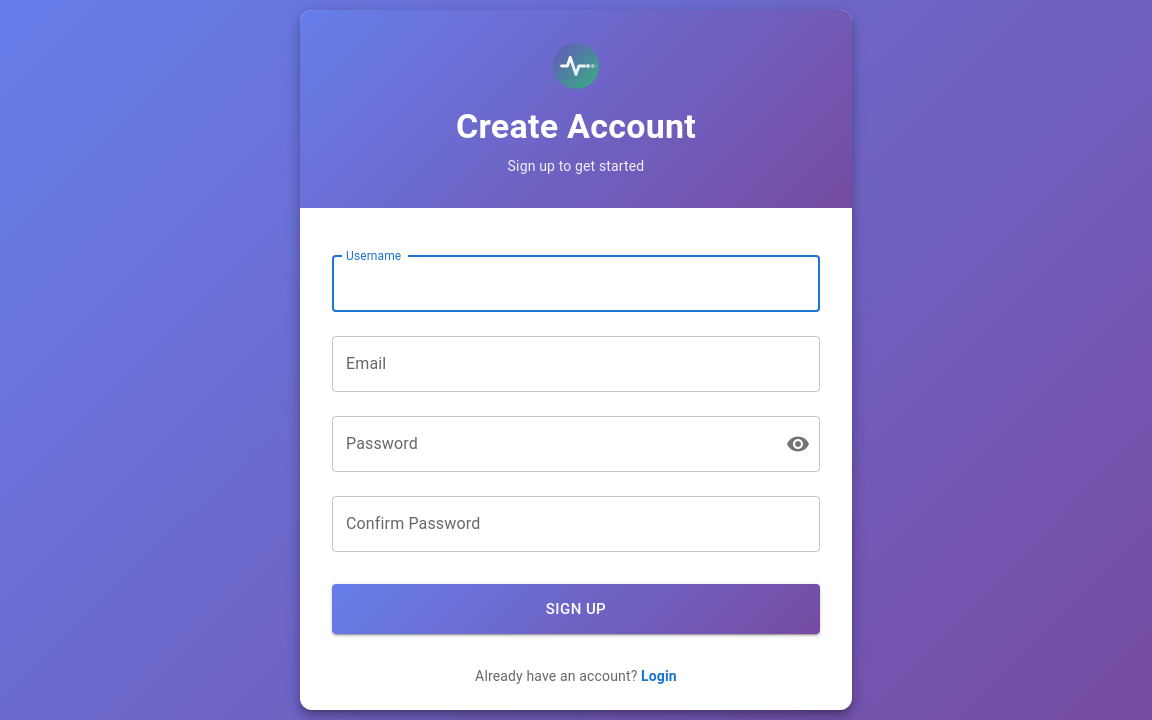
Register Component › shows validation errors for empty fields
Step 1. Click the button "Sign Up" → [576, 609], box [332,584,820,634]
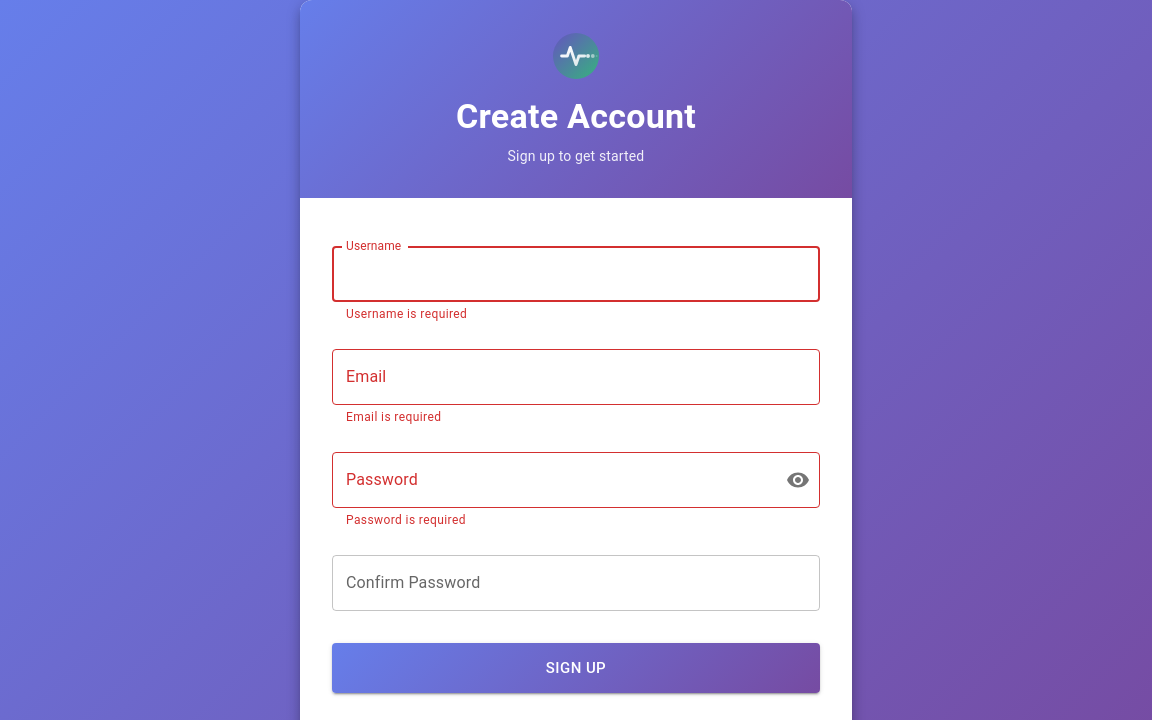
Now the text "Username is required" is shown, box [346,307,467,321]
Now the text "Email is required" is shown, box [346,410,441,424]
Now the text "Password is required" is shown, box [346,513,466,527]
